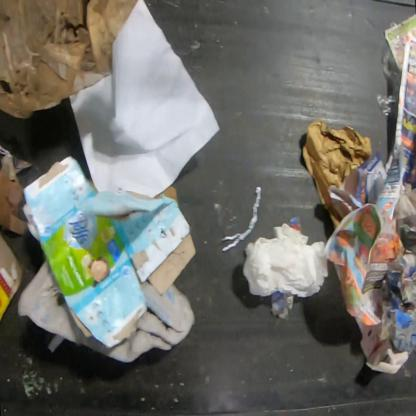cardboard: (21, 156, 198, 352), (0, 0, 142, 118), (0, 154, 29, 235), (0, 234, 21, 324)
soft_plastic: (381, 38, 406, 94), (376, 93, 398, 120)
